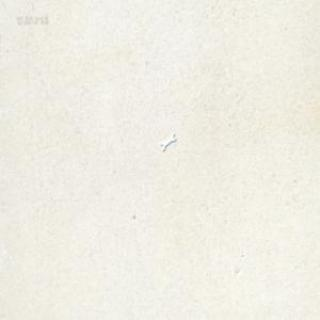Wrenchtrack_idkeyframe: (159, 132, 176, 150)
